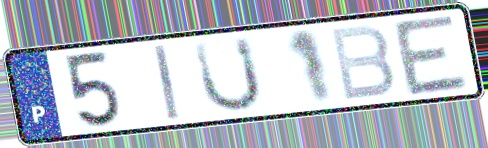1: (284, 26, 337, 108)
5: (62, 48, 123, 130)
B: (326, 23, 398, 104)
E: (390, 11, 473, 99)
I: (151, 42, 183, 123)
U: (191, 34, 265, 116)
